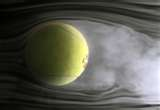tennis ball: (24, 22, 90, 87)
